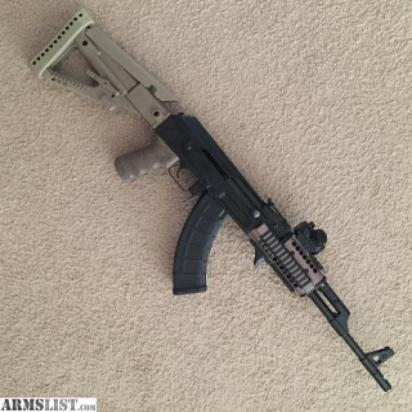Gun: (18, 0, 395, 394)
